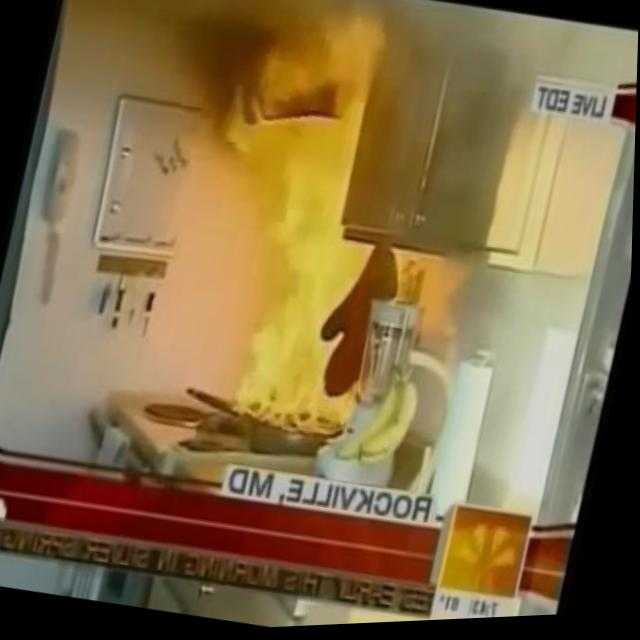fire: (163, 0, 451, 454)
